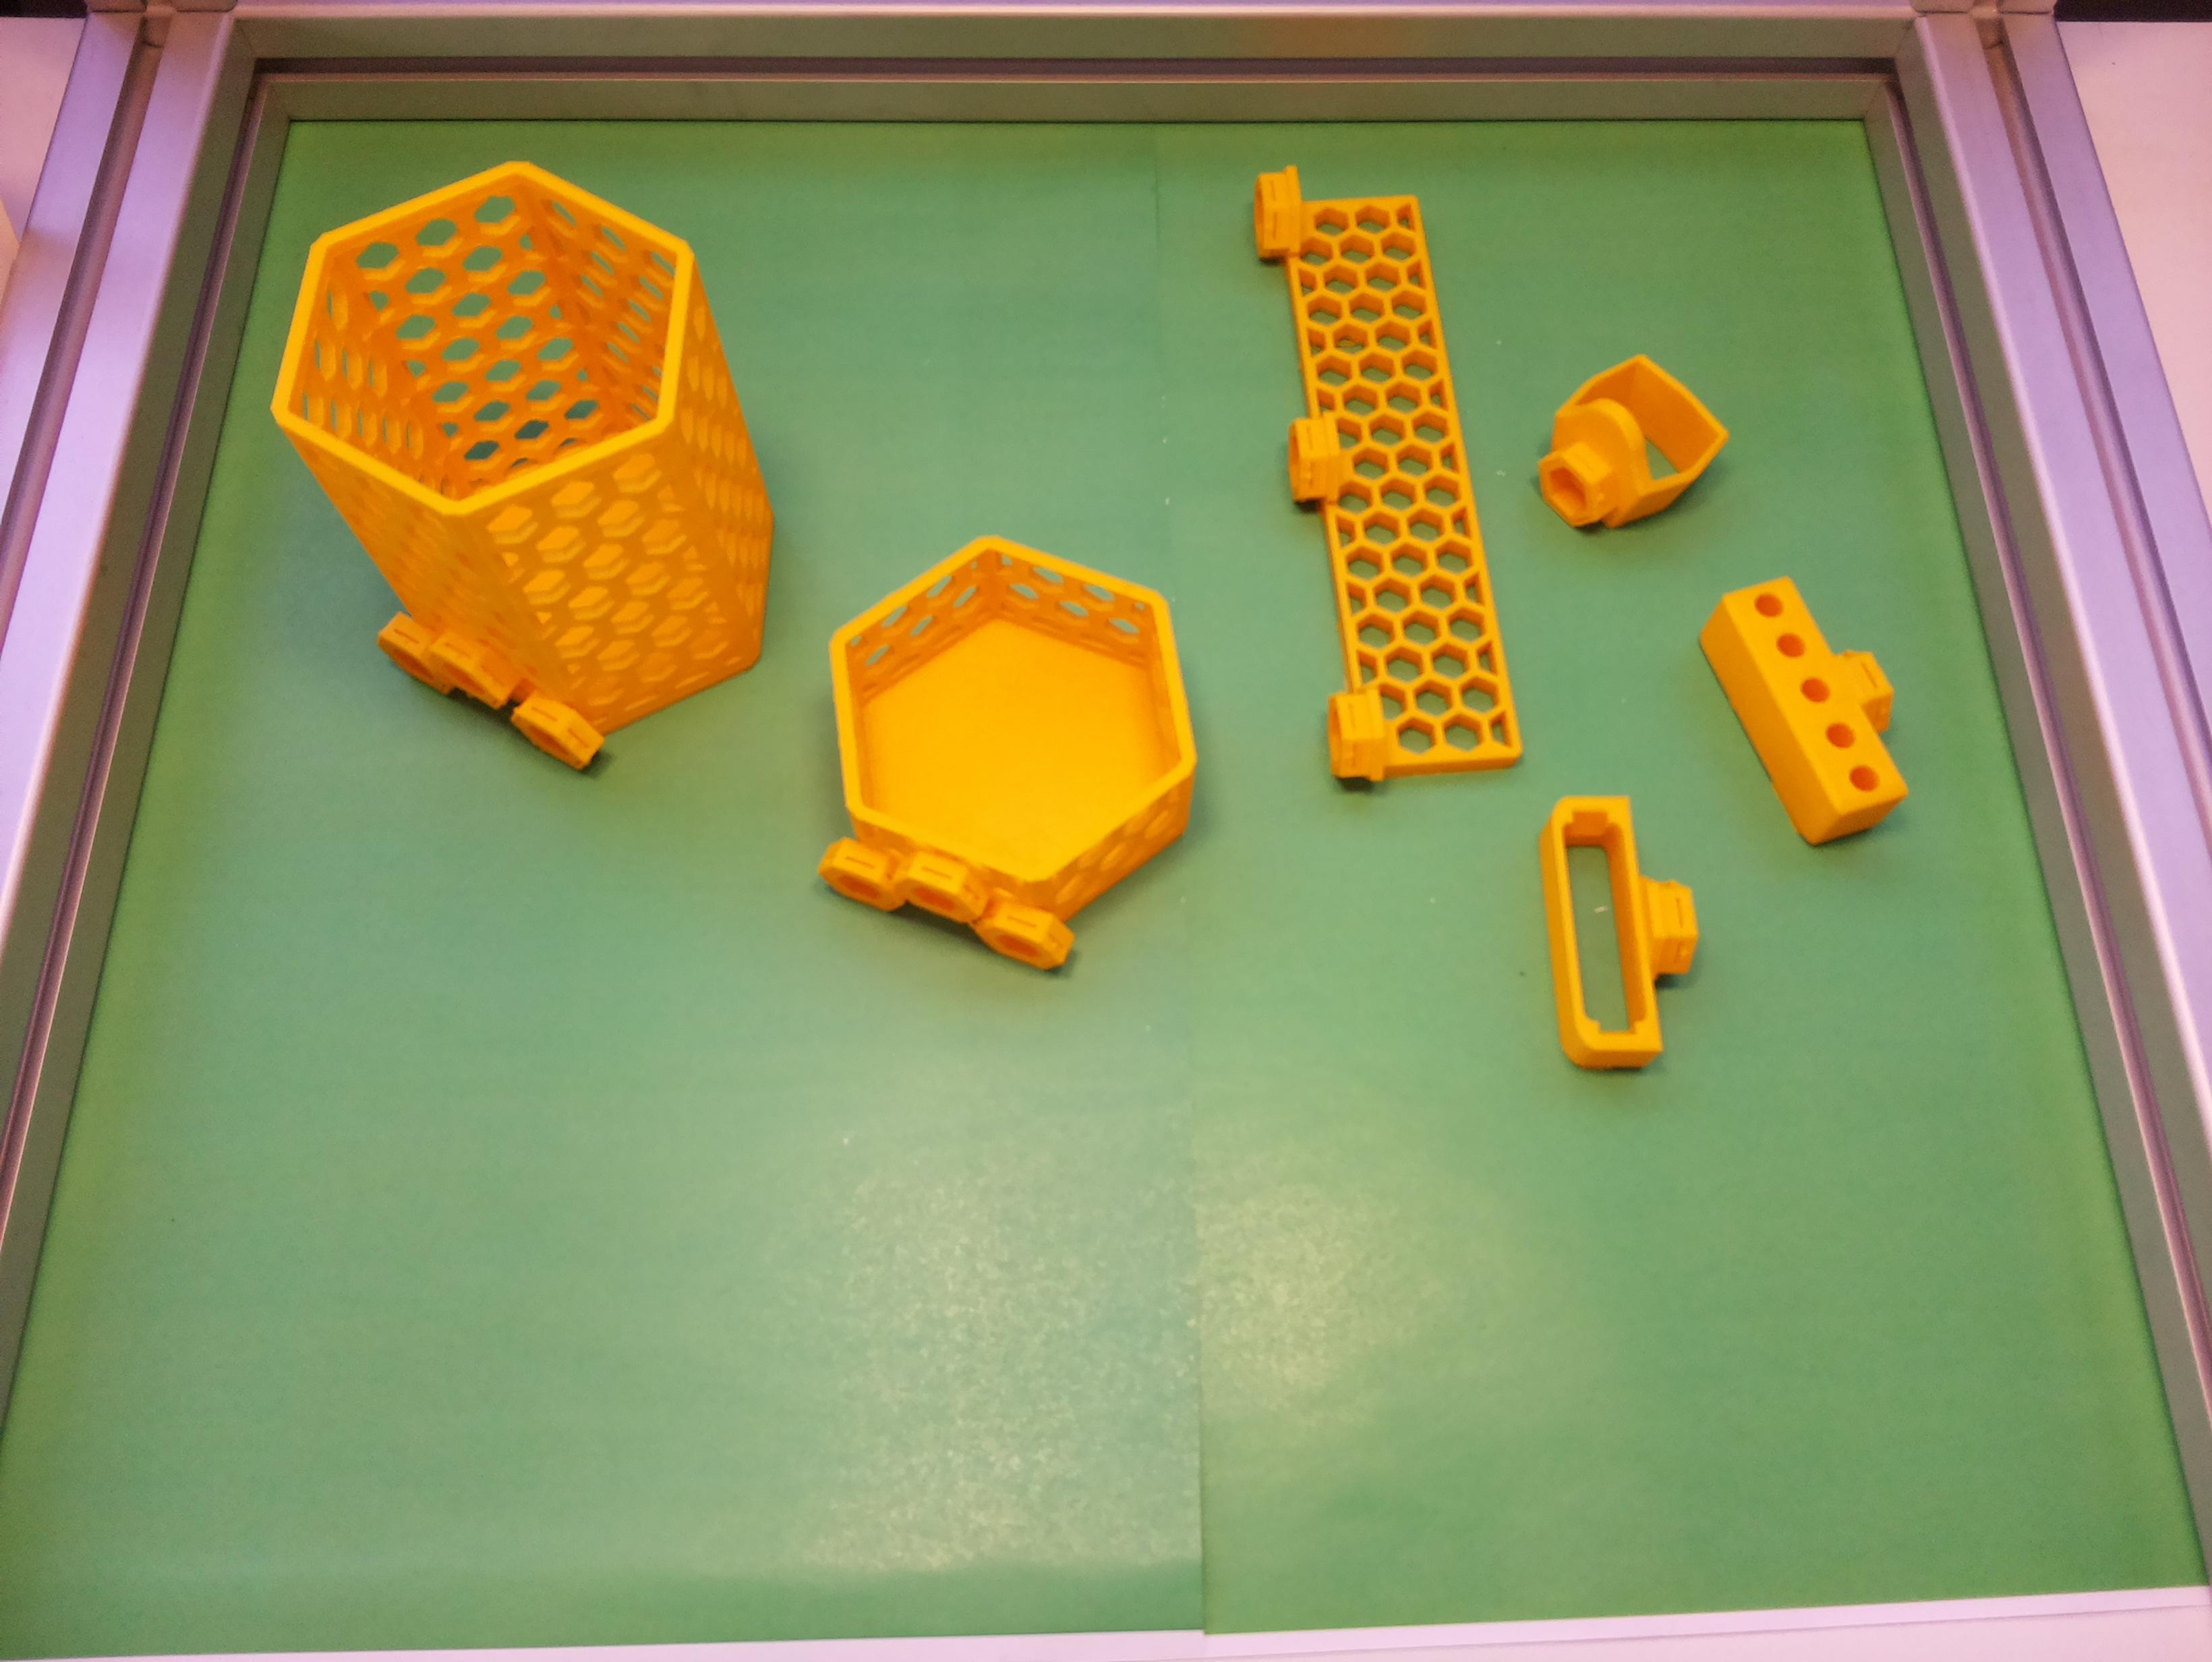bit_holder: (1686, 548, 1940, 861)
bottle_holder: (752, 496, 1255, 999)
cup_holder: (220, 115, 842, 826)
cutter_holder: (1538, 793, 1704, 1072)
scissor_holder: (1505, 333, 1737, 564)
tool_holder: (1220, 143, 1524, 798)
